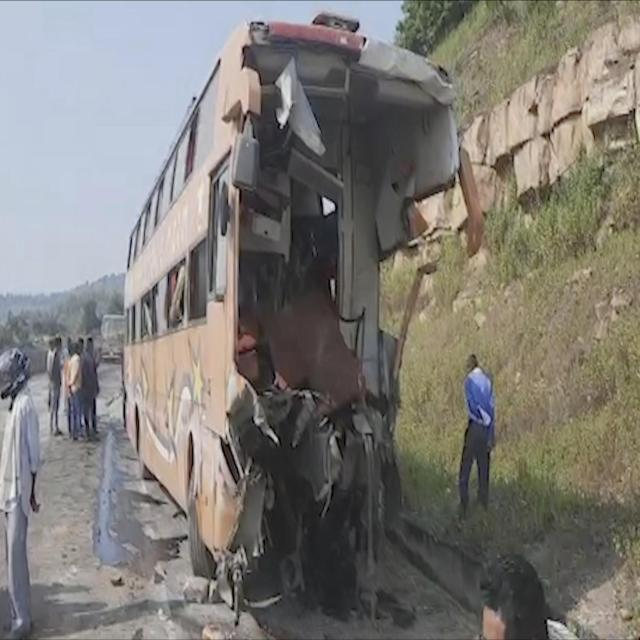accident: (124, 15, 460, 608)
